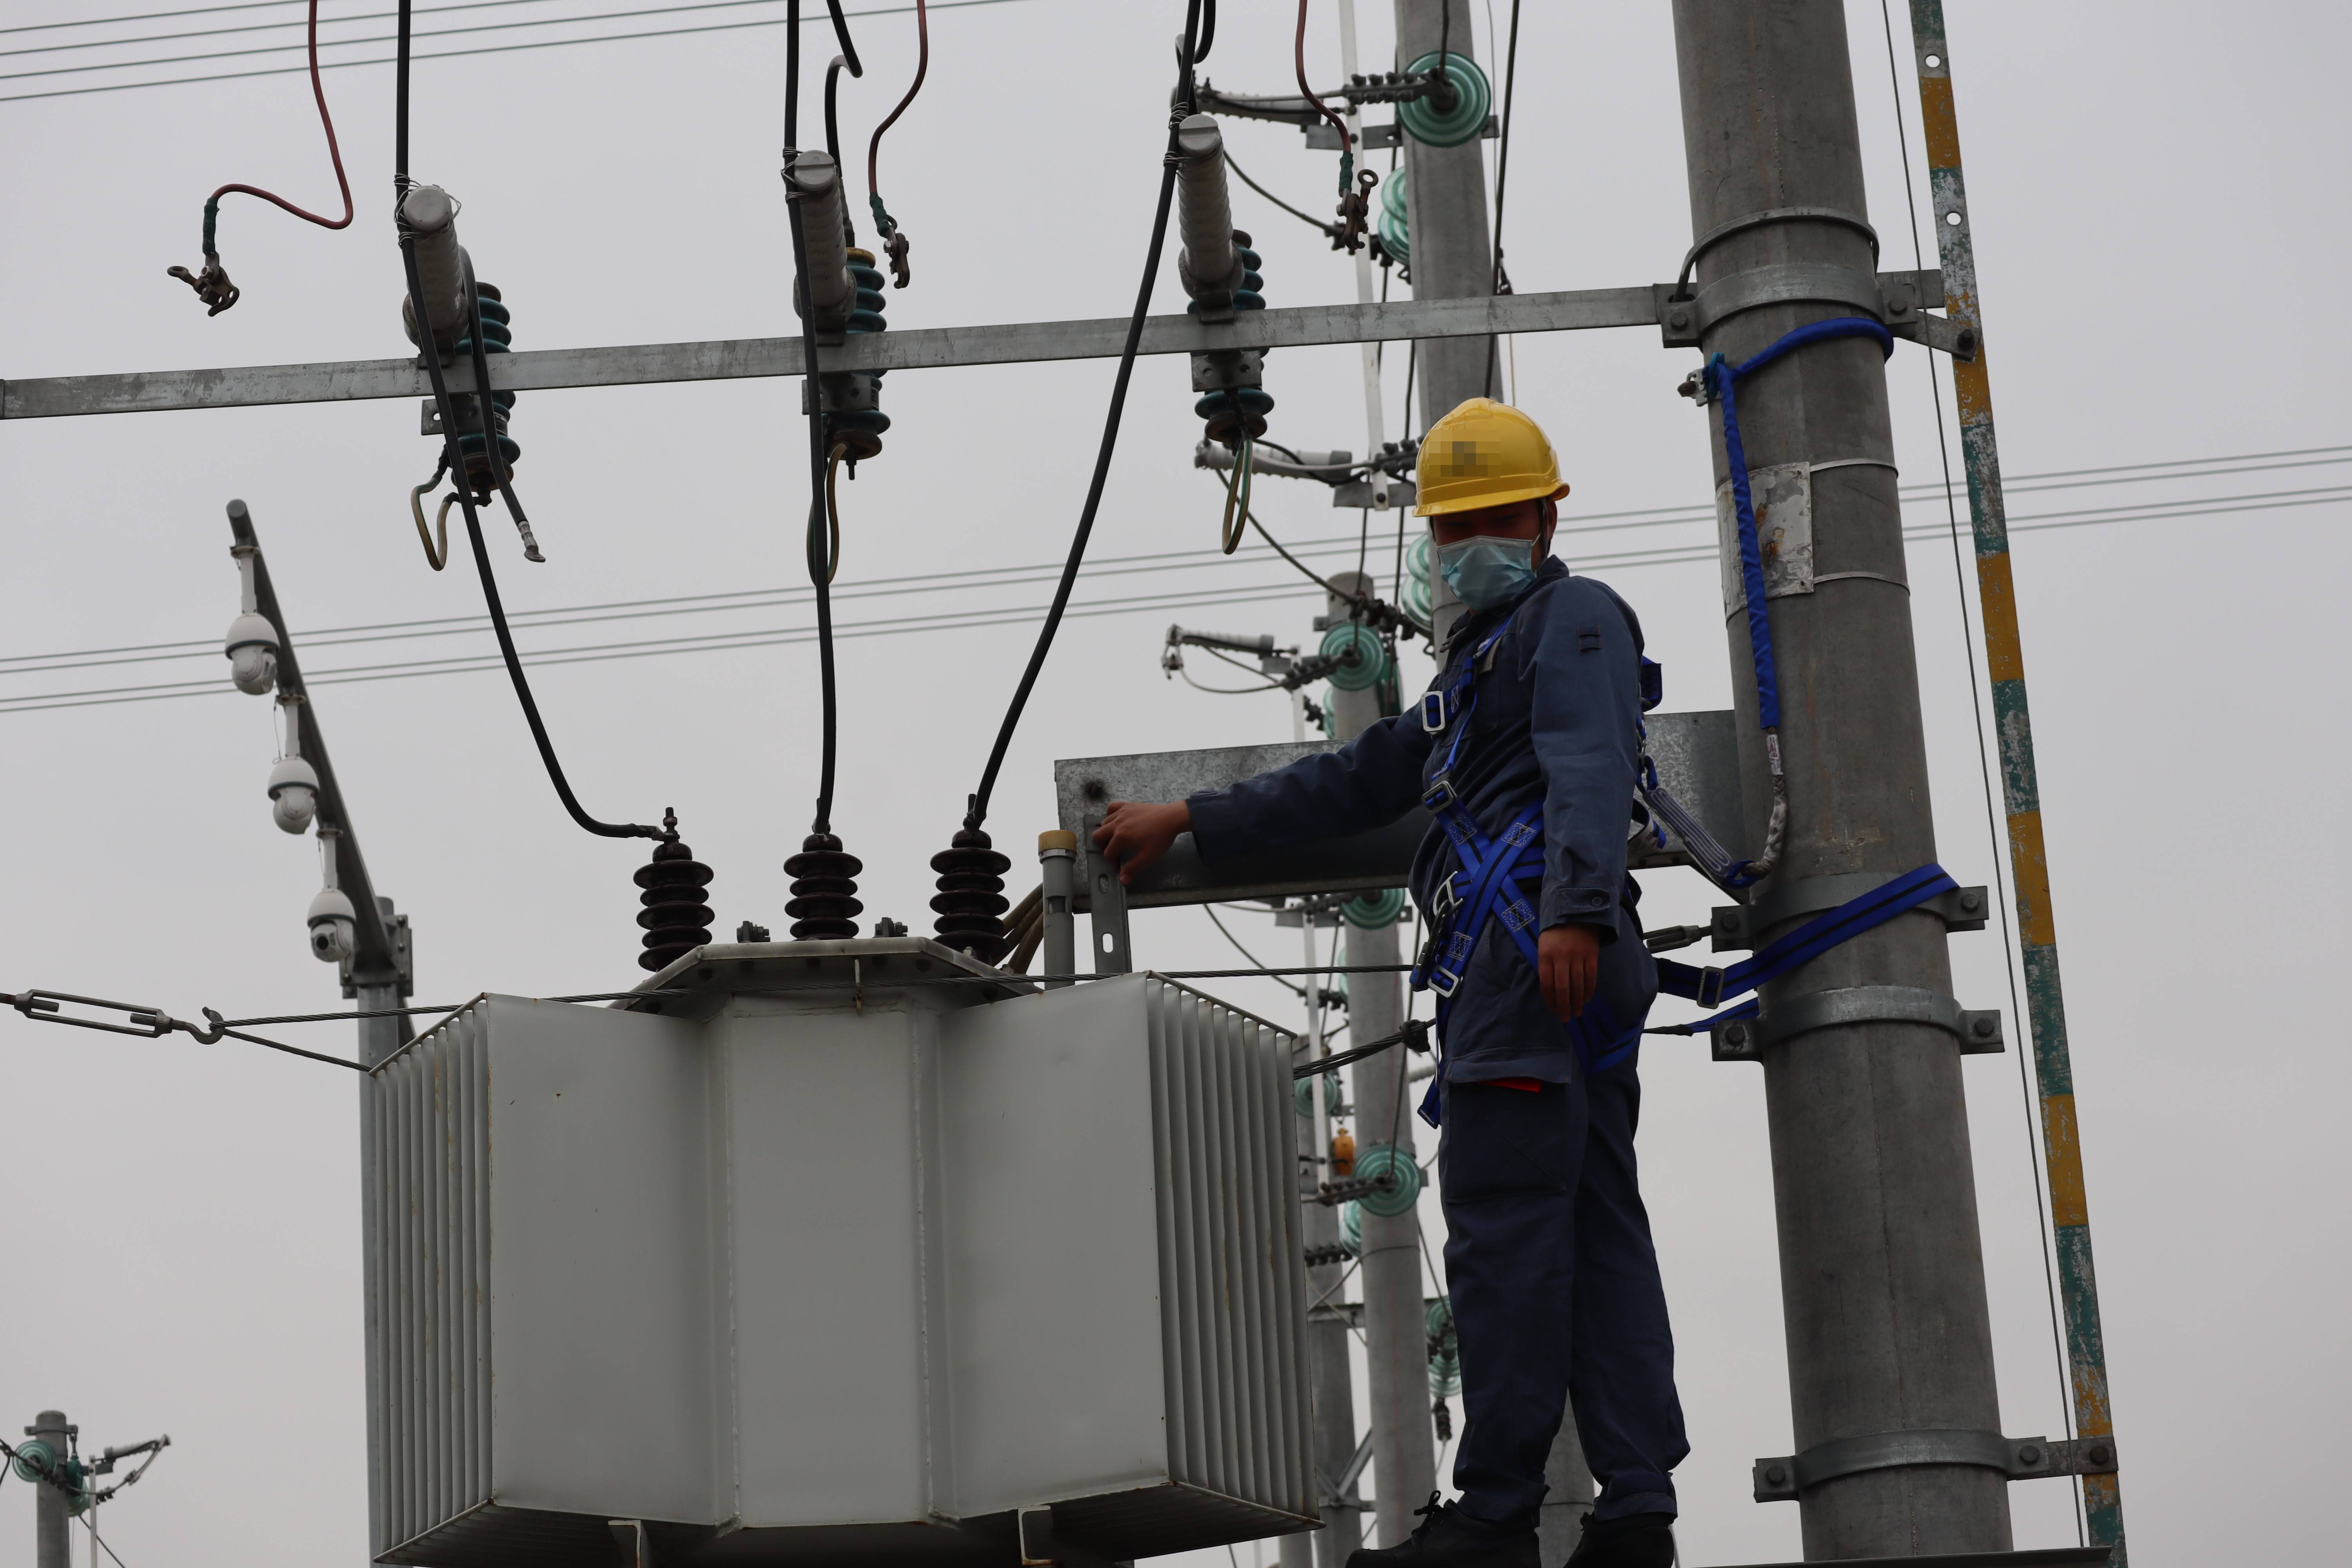downsuit: (1426, 924, 1687, 1505)
upsuit: (1200, 567, 1656, 905)
